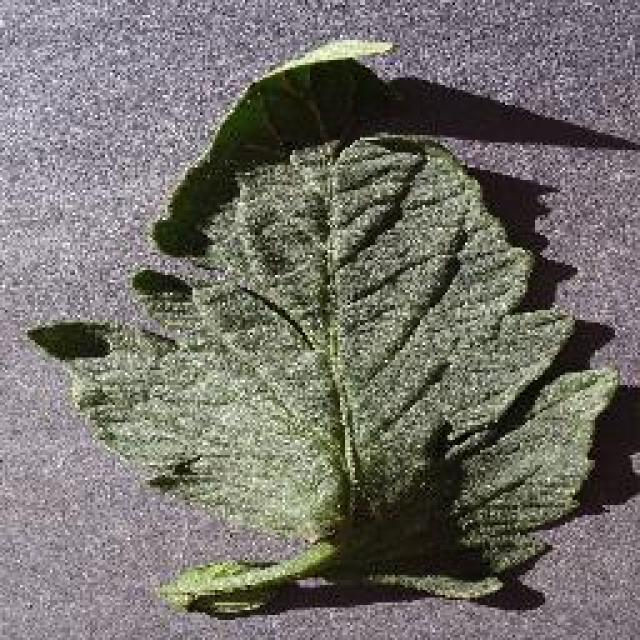Tomato_Healthy: (41, 38, 640, 604)
